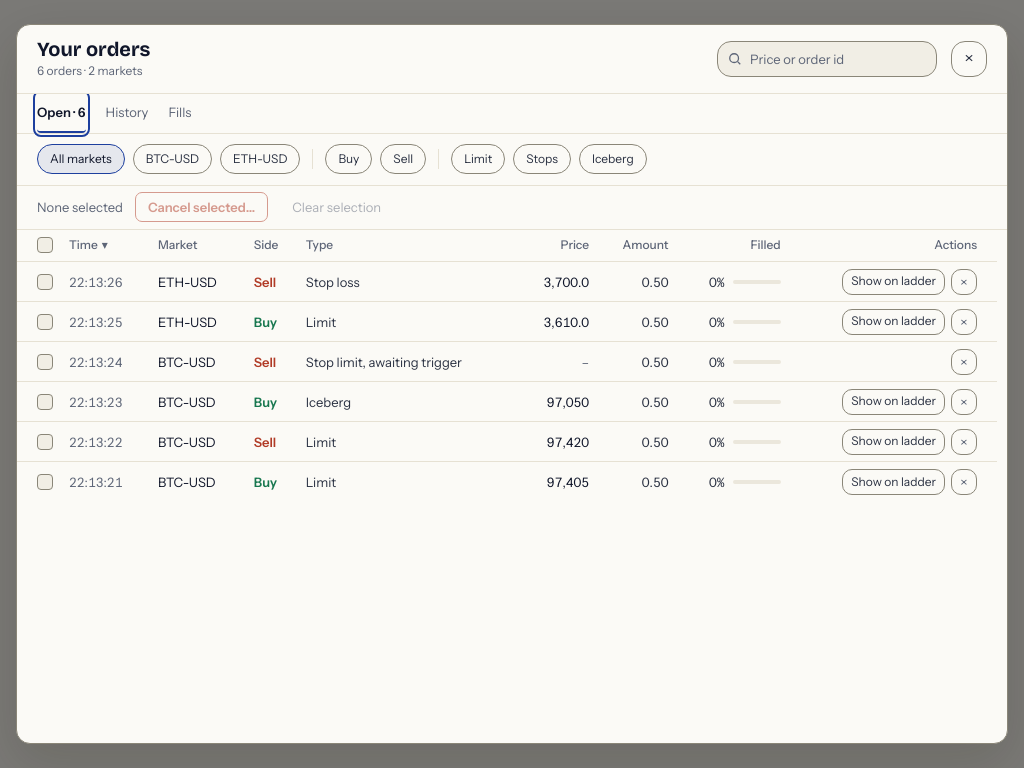
Test: AllOrdersDialog: History and Fills › History shows the order history list only; Fills shows the fills list
This screenshot has width=1024, height=768.
Step 1. Click the tab "History" → [127, 113], box [106,94,148,133]
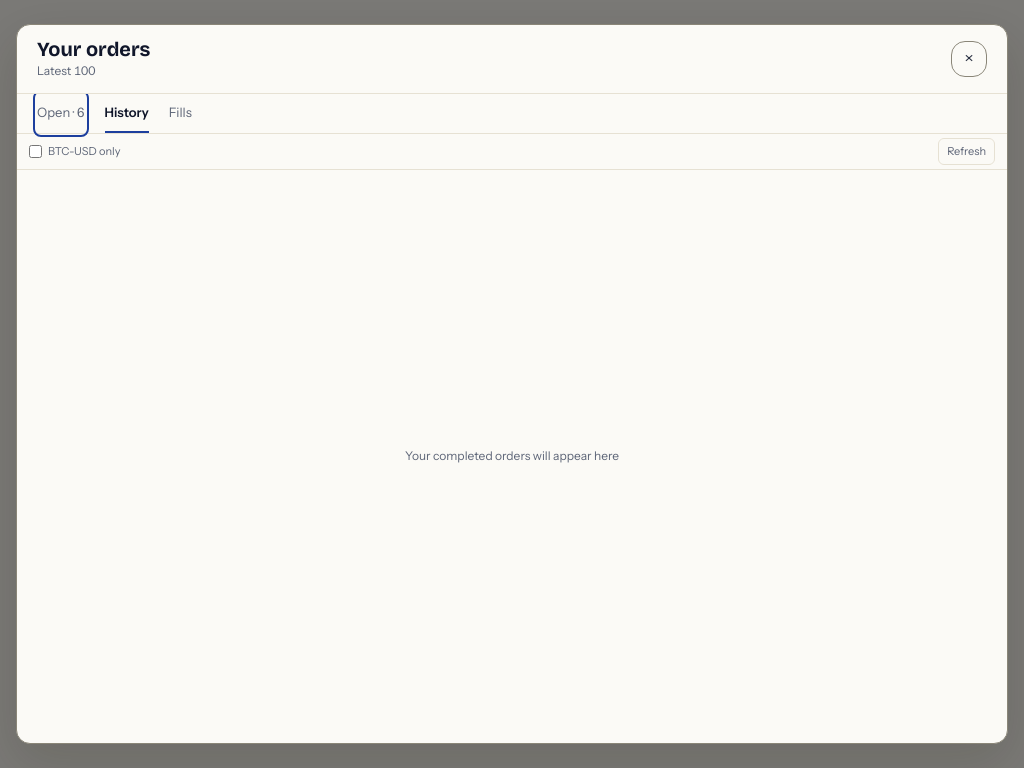
Result: the dialog "Your orders" shows "Your completed orders will appear here" at [405,448,619,463]
Result: the dialog "Your orders" shows "Latest 100" at [37,63,95,78]
Step 2. Click the tab "Fills" → [180, 113], box [169,94,192,133]
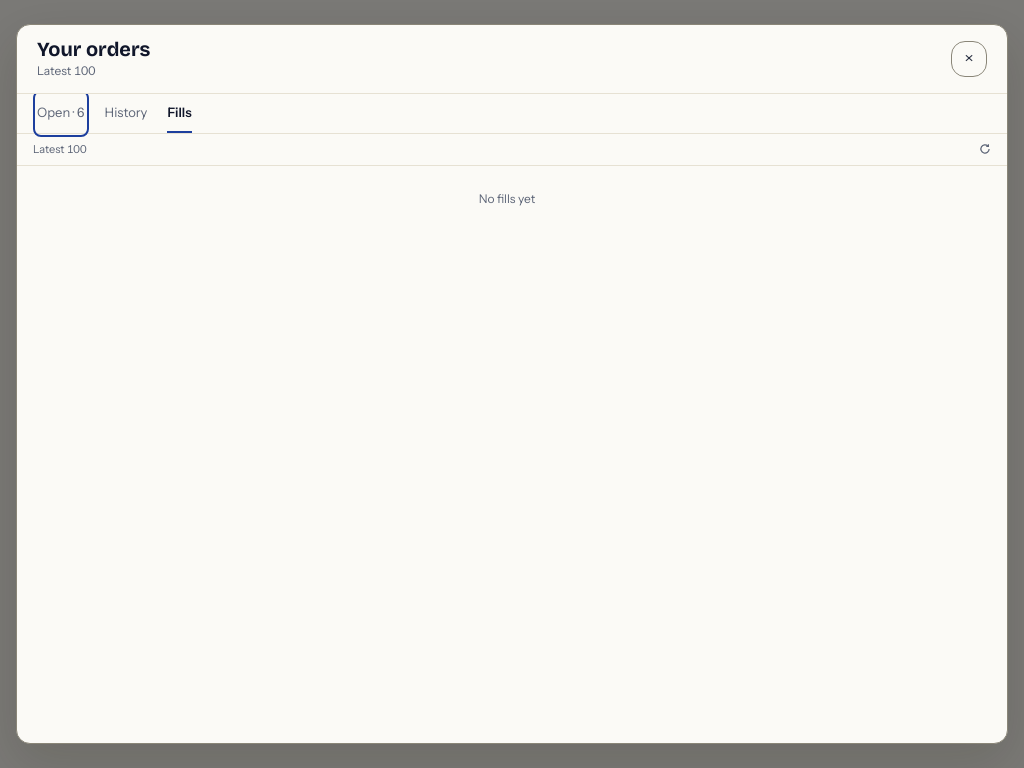
Result: the dialog "Your orders" shows "No fills yet" at [479,191,535,206]
